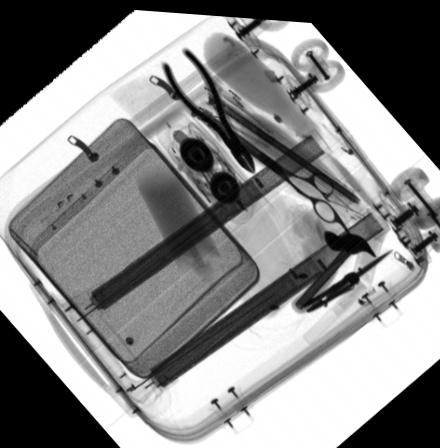Hammer: (289, 225, 376, 308)
Knife: (299, 240, 394, 308)
Pliers: (158, 43, 255, 169)
Scissors: (194, 106, 352, 233)
